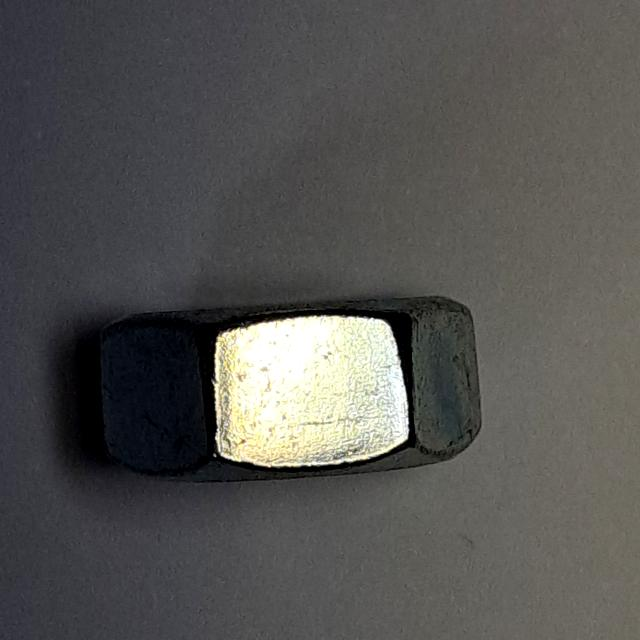Side_Excellent: (81, 282, 510, 500)
